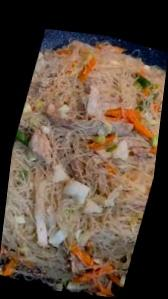pancit bihon: (0, 41, 167, 295)
